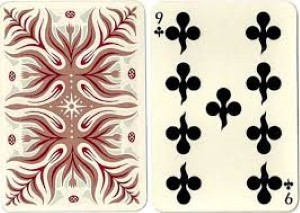NineOfClubs: (150, 1, 296, 208)
